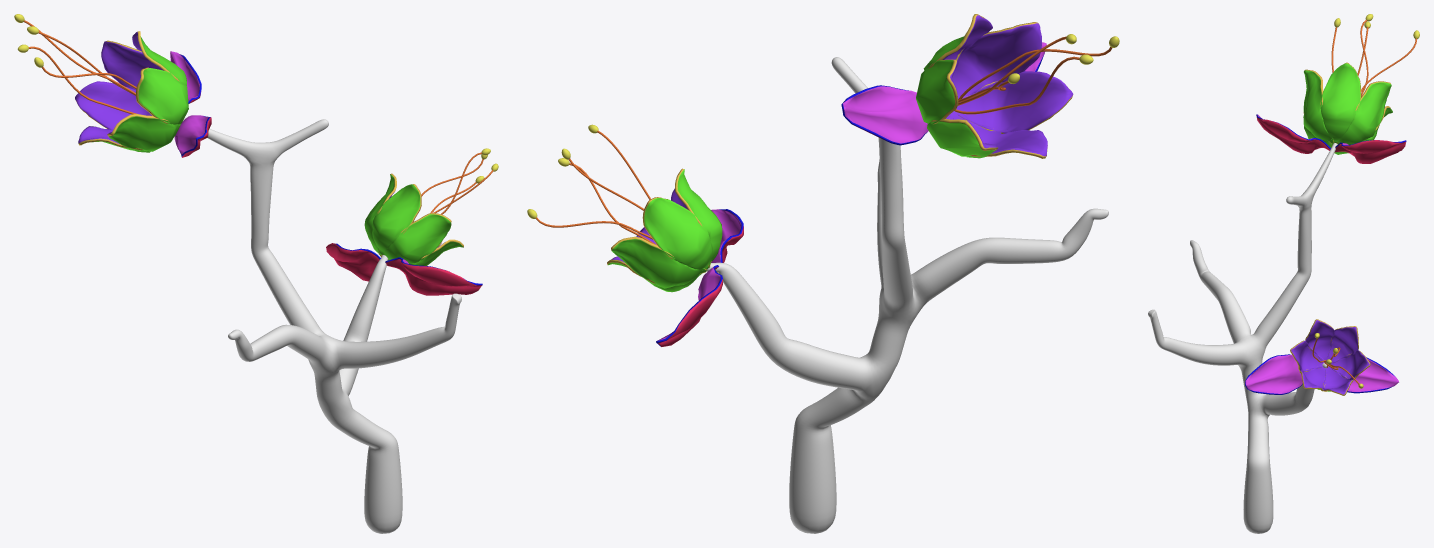
Rendered from flowertree.fbx.
3 renders of one model, left to right at view 1: azimuth 30°, elevation 25°; view 2: azimuth 150°, elevation 25°; view 3: azimuth 270°, elevation 25°, orthographic. The views are drawn at different scales.
Visible parts, largest first — view 1: Cube.002, Circle.026, Circle.029, Circle.028, Circle.059; view 2: Cube.002, Circle.026, Circle.029, Circle.059, Circle.028; view 3: Cube.002, Circle.026, Circle.029, Circle.028, Circle.059.
Part boxes in pixels (x1,y1,x2,y2): Cube.002: (182,118,461,533); Circle.026: (75,31,188,152); Circle.029: (364,173,463,265); Circle.028: (326,243,482,295); Circle.059: (170,51,211,157); Cube.002: (706,57,1108,533); Circle.026: (916,14,1073,158); Circle.029: (607,168,722,292); Circle.059: (841,42,1046,145); Circle.028: (656,209,743,346); Cube.002: (1148,143,1337,533); Circle.026: (1303,62,1392,154); Circle.029: (1290,319,1370,395); Circle.028: (1245,354,1398,394); Circle.059: (1256,114,1406,163).
Size of the model in its own units: 353 by 379 by 228.
